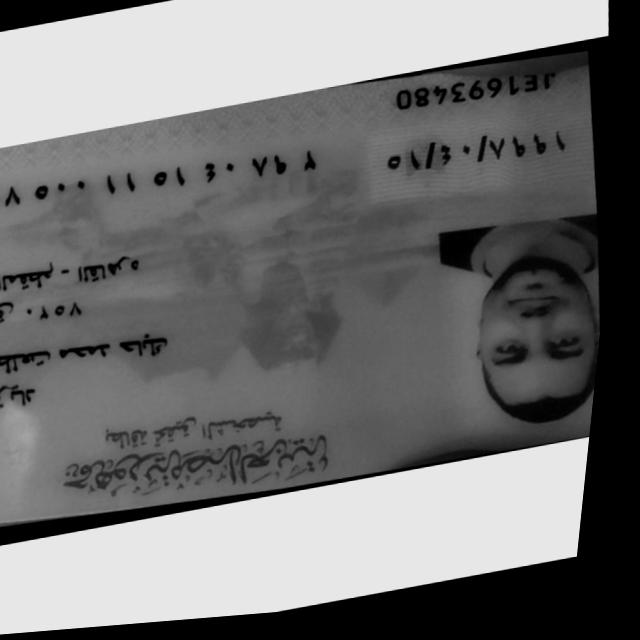id_card: (0, 66, 606, 524)
